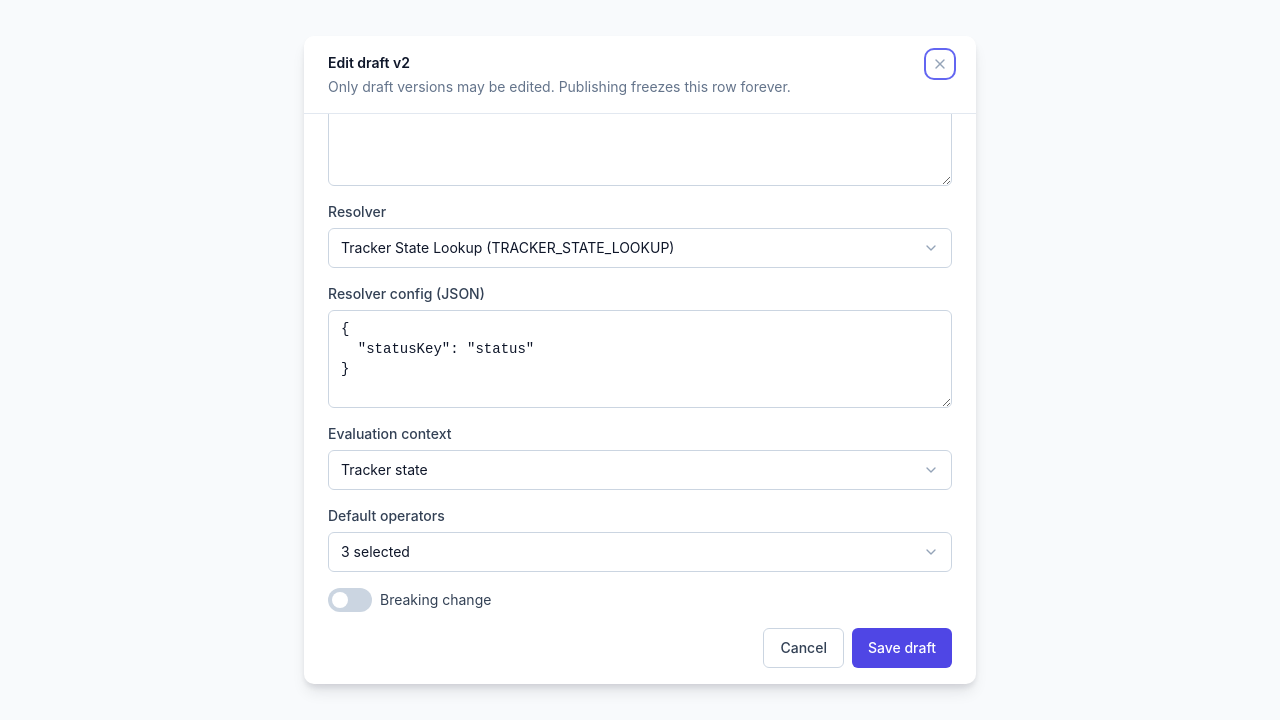
Test: EditVersionDraftModal › a generic API failure shows its message and does not close the modal
(page scrolled)
Click the button "Save draft": (902, 648) [852,628,952,668]
(page scrolled)
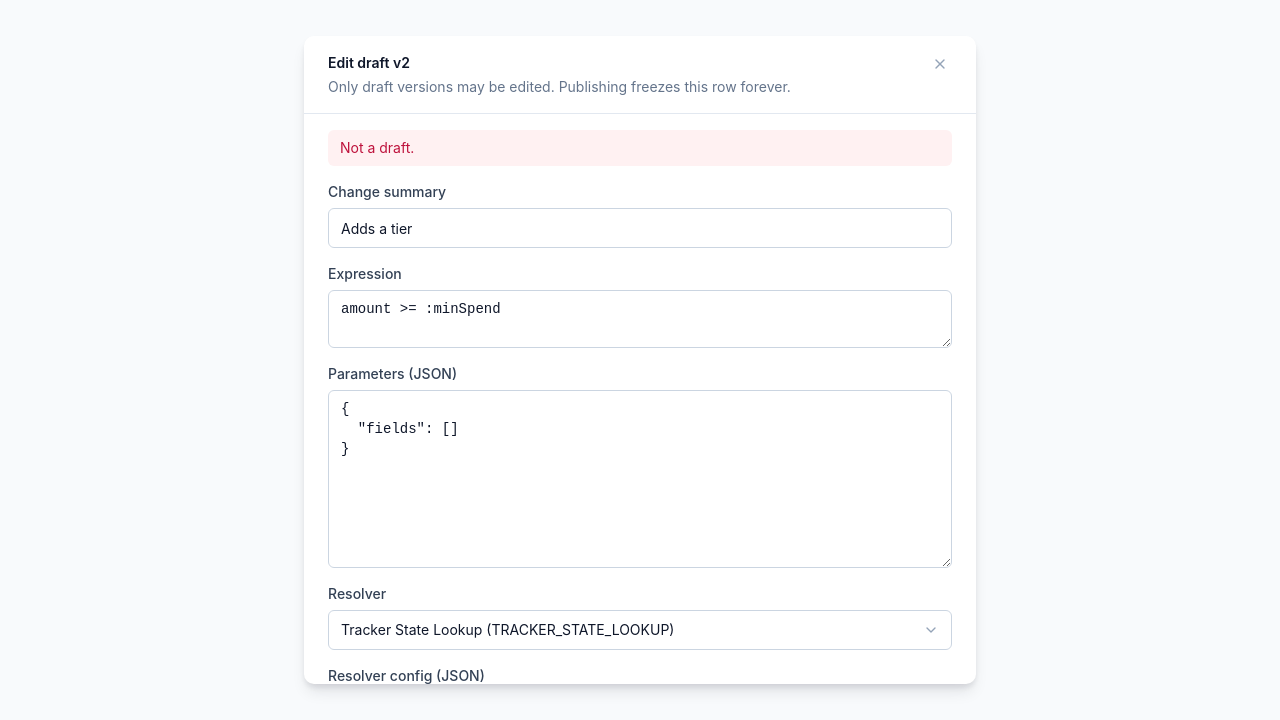
Check: the message reads "Not a draft.", box [340,139,414,156]
